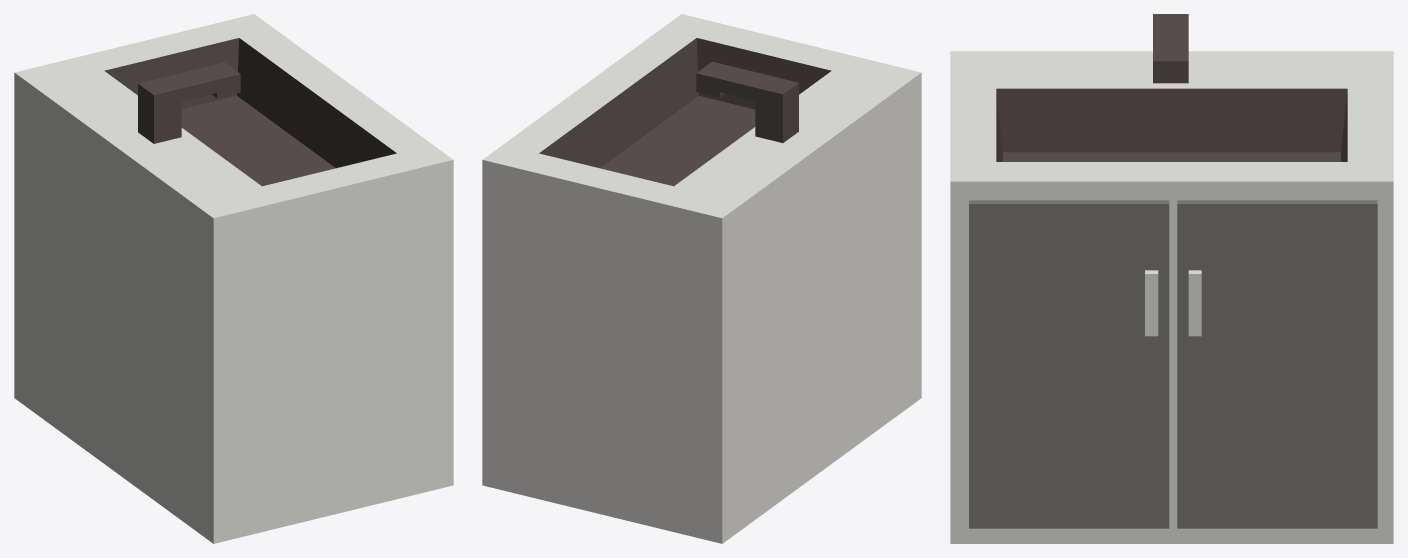
Rendered from kitchen_sink.fbx.
3 views of the same model, side by side, from view 1: azimuth 30°, elevation 25°; view 2: azimuth 150°, elevation 25°; view 3: azimuth 270°, elevation 25° (orthographic). The views are drawn at different scales.
Visible parts, largest first — view 1: bath_sink1; view 2: bath_sink1; view 3: bath_sink1.
Boxes of the visible parts, x1=… form: bath_sink1: x1=14, y1=14, x2=453, y2=543; bath_sink1: x1=482, y1=14, x2=921, y2=543; bath_sink1: x1=950, y1=14, x2=1393, y2=543.
Size of the model in its own units: 106 by 78.22 by 110.
